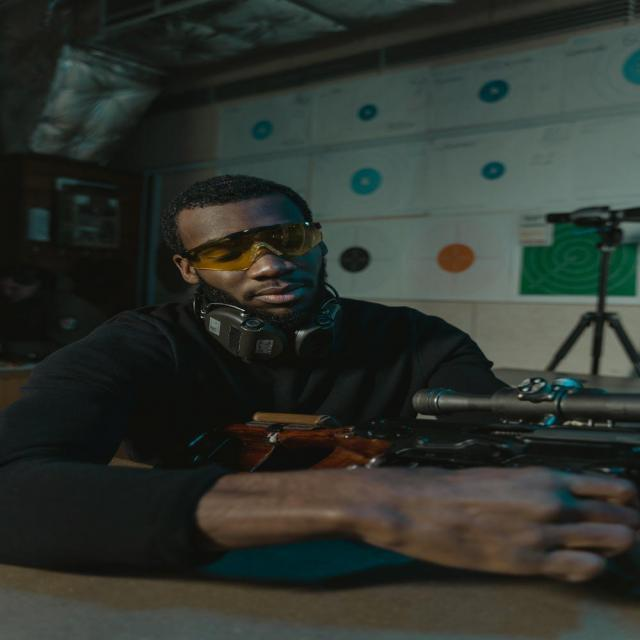weapon: (186, 374, 640, 474)
